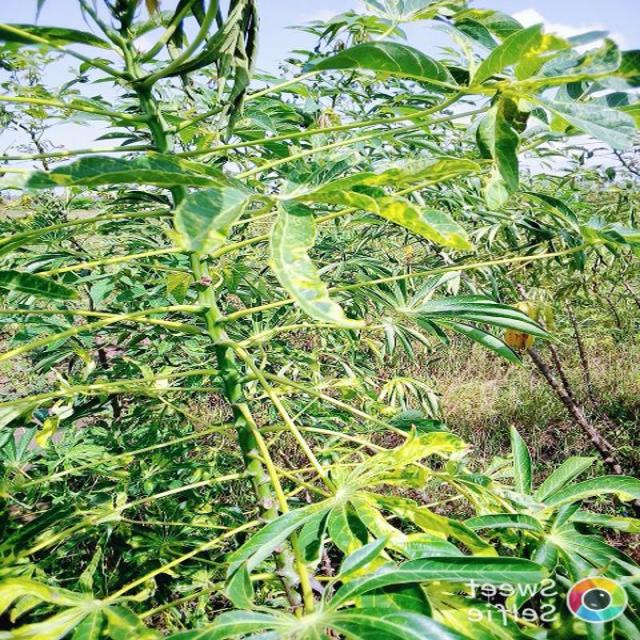cassava leaf: (2, 0, 640, 638), (268, 197, 367, 330), (173, 182, 252, 256)
